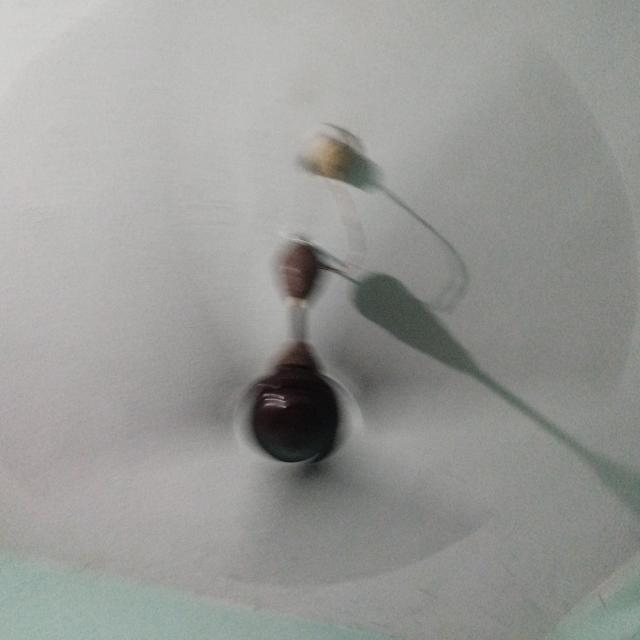fan_on: (2, 0, 632, 588)
